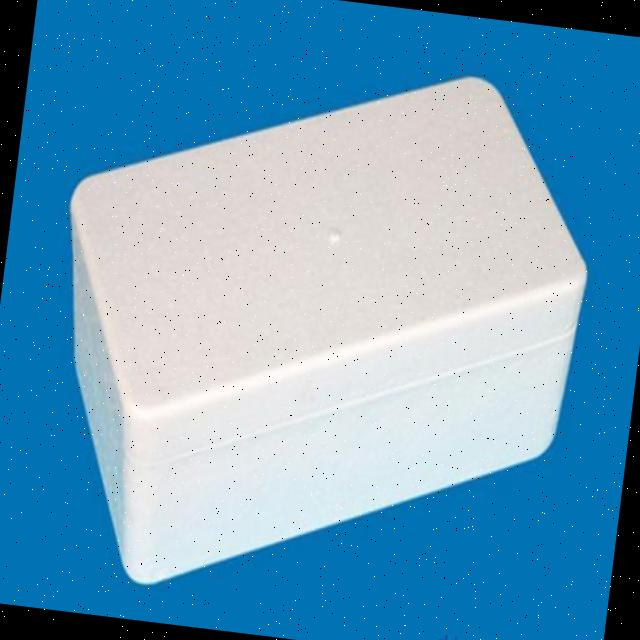styrofoam: (22, 25, 610, 634)
